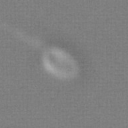normal: (1, 15, 45, 50)
